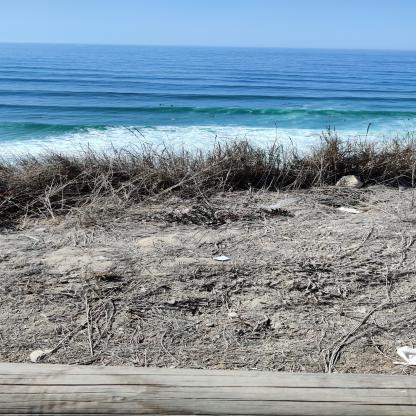trash: (257, 195, 306, 214), (389, 343, 416, 369)
